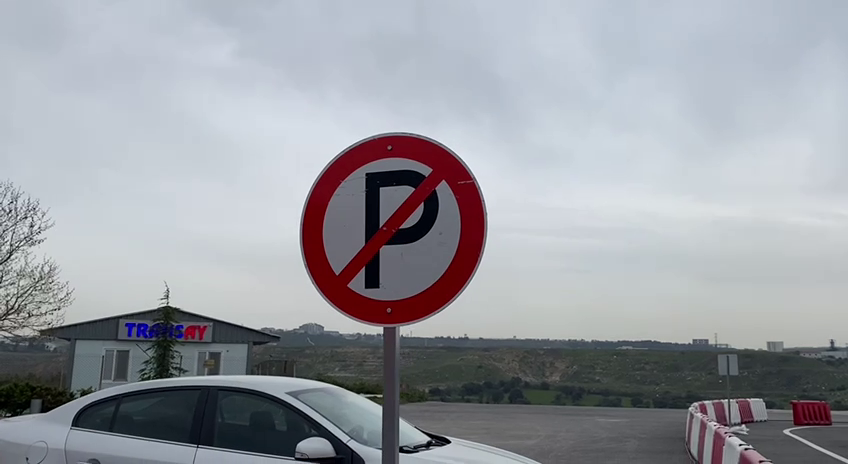noparking: (293, 127, 491, 330)
